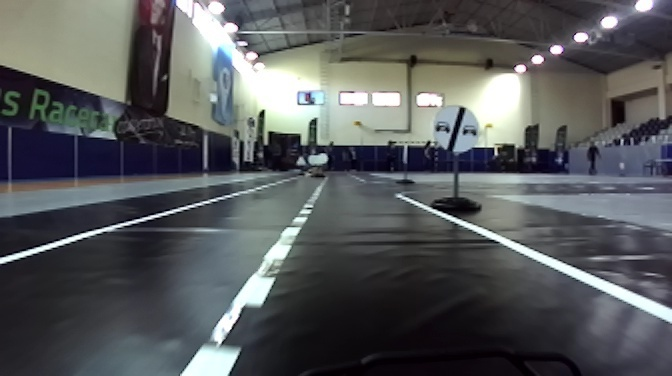sollama_serbest: (431, 103, 480, 154)
